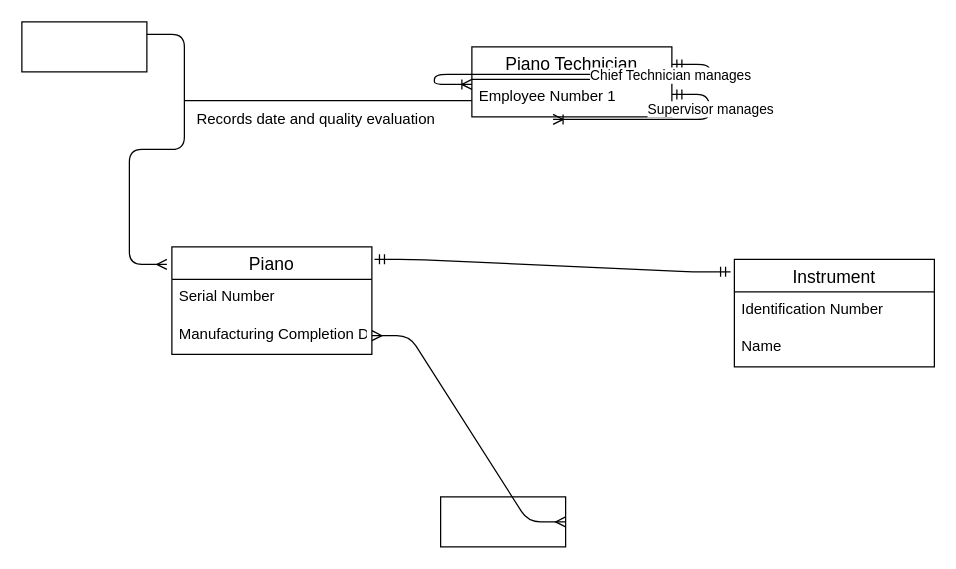
Image size: 956x569. Some labels were removed from this diagram. Here are the shapes that lost their labels. From the top down, the centre of each, then its label:
the point at 84,46: Customer
the point at 502,521: Model Design
